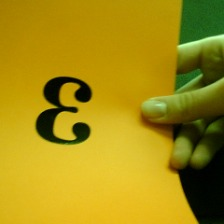orange3: (30, 72, 97, 148)
